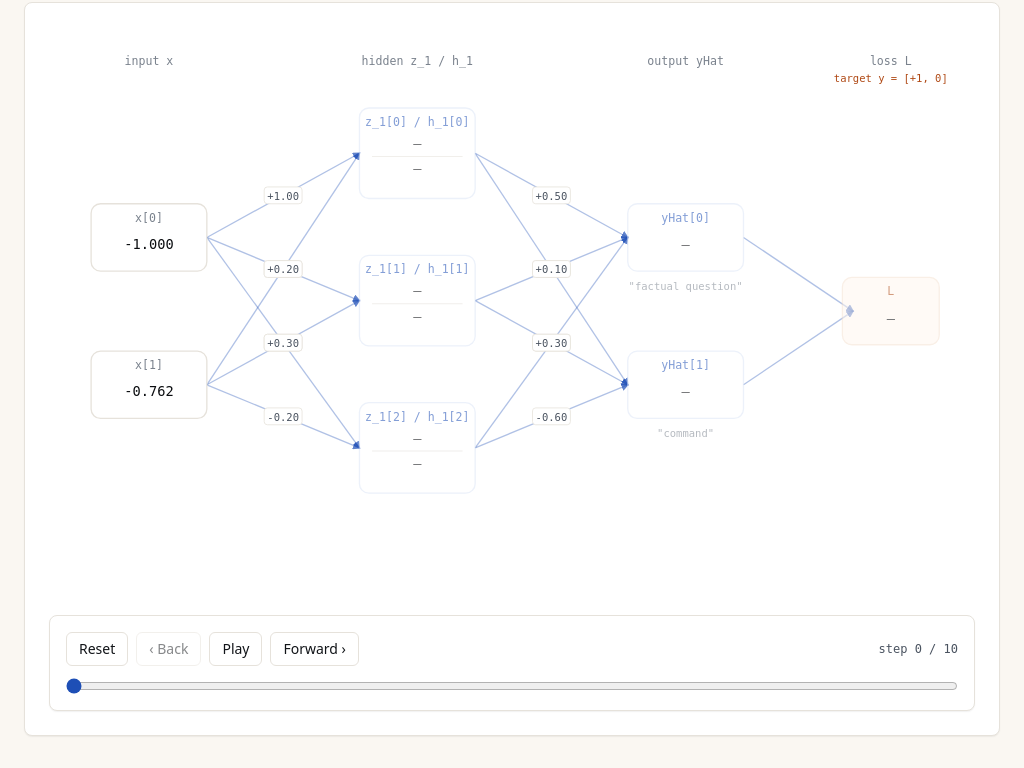
Test: Layer 1 step controller › advances the step number when Forward is clicked
This screenshot has width=1024, height=768.
(page scrolled)
Click the button with aria-label "Step forward" at (315, 649), box x1=270 y1=632 x2=359 y2=666
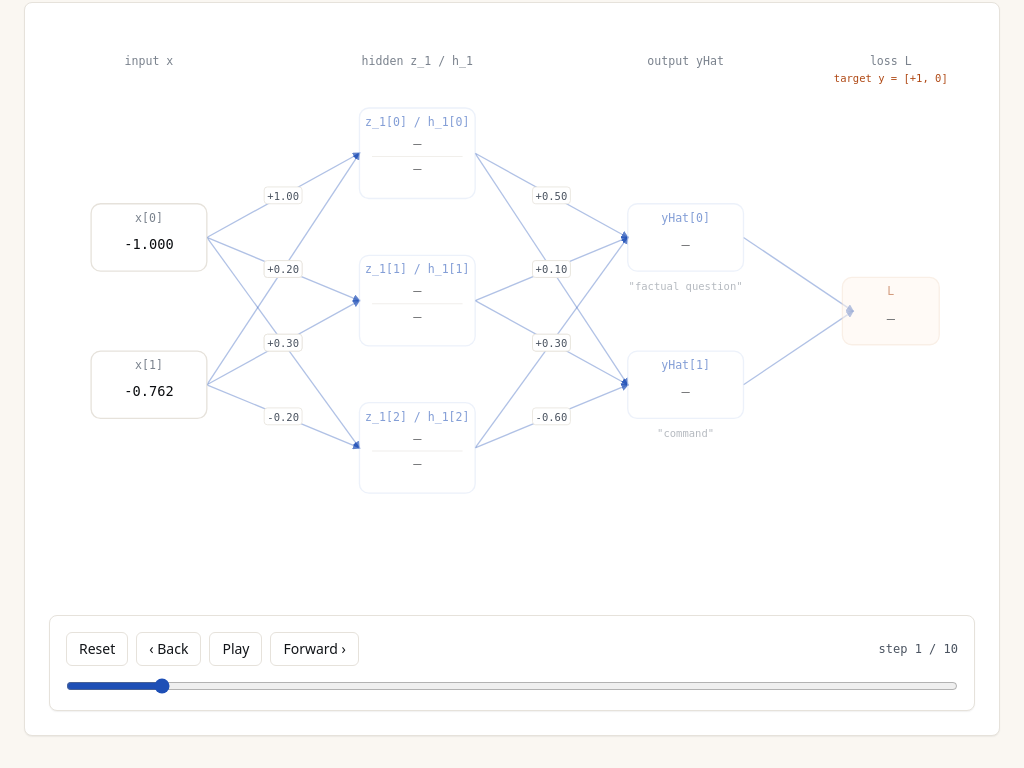
Result: the text "step 1 / 10" is shown at x1=878 y1=641 x2=958 y2=657
Click the button with aria-label "Step forward" at (315, 649), box x1=270 y1=632 x2=359 y2=666
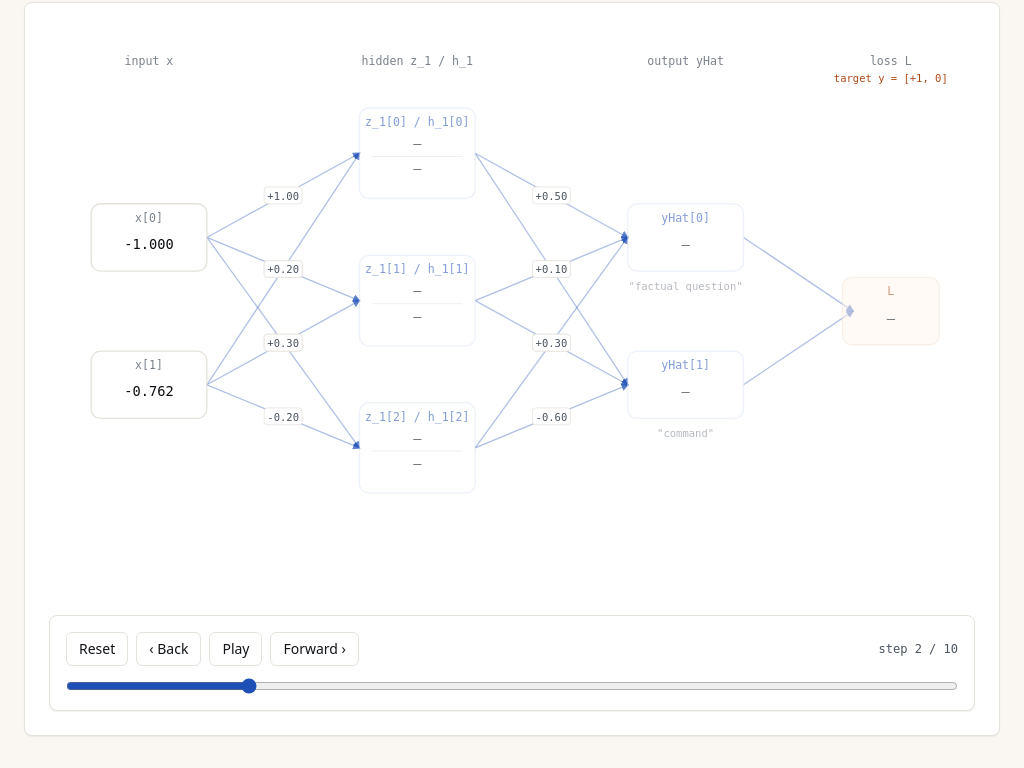
Result: the text "step 2 / 10" is shown at x1=878 y1=641 x2=958 y2=657
